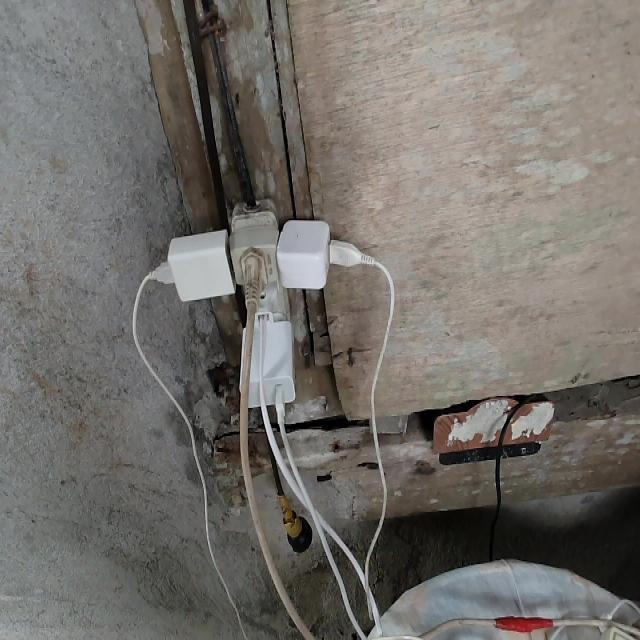-: (148, 196, 373, 423)
